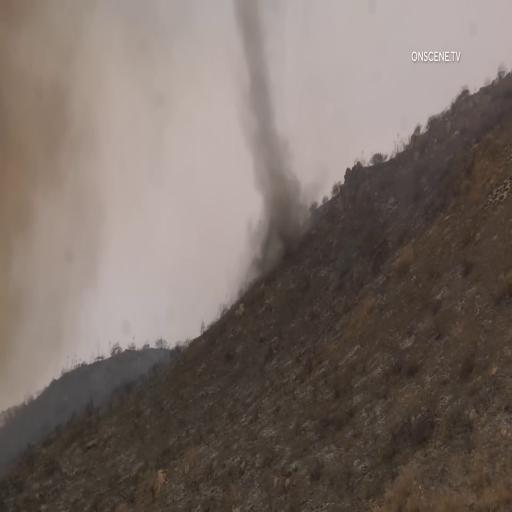smoke: (230, 8, 300, 250)
